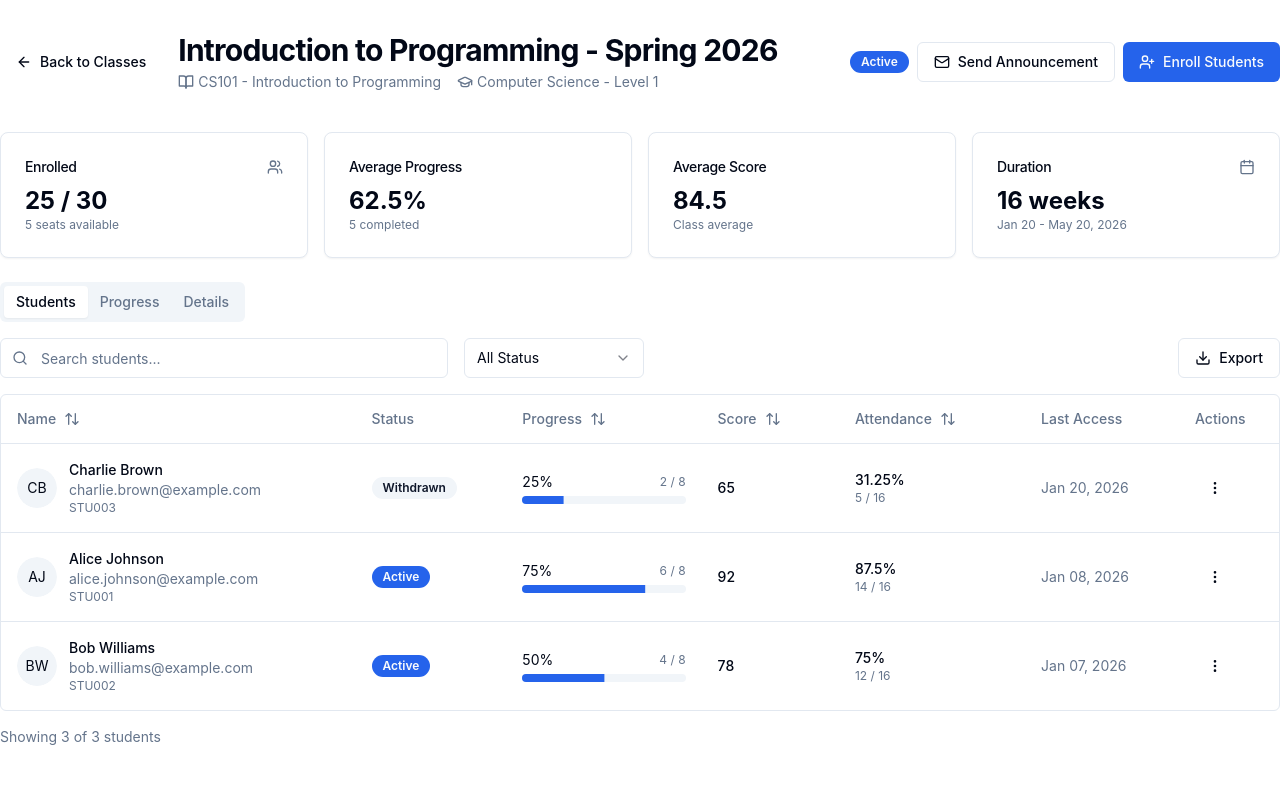
ClassDetailsPage › opens enroll dialog when enroll button clicked
The width and height of the screenshot is (1280, 800).
Click the button "Enroll Students" at (1202, 62), box [1123,42,1279,82]
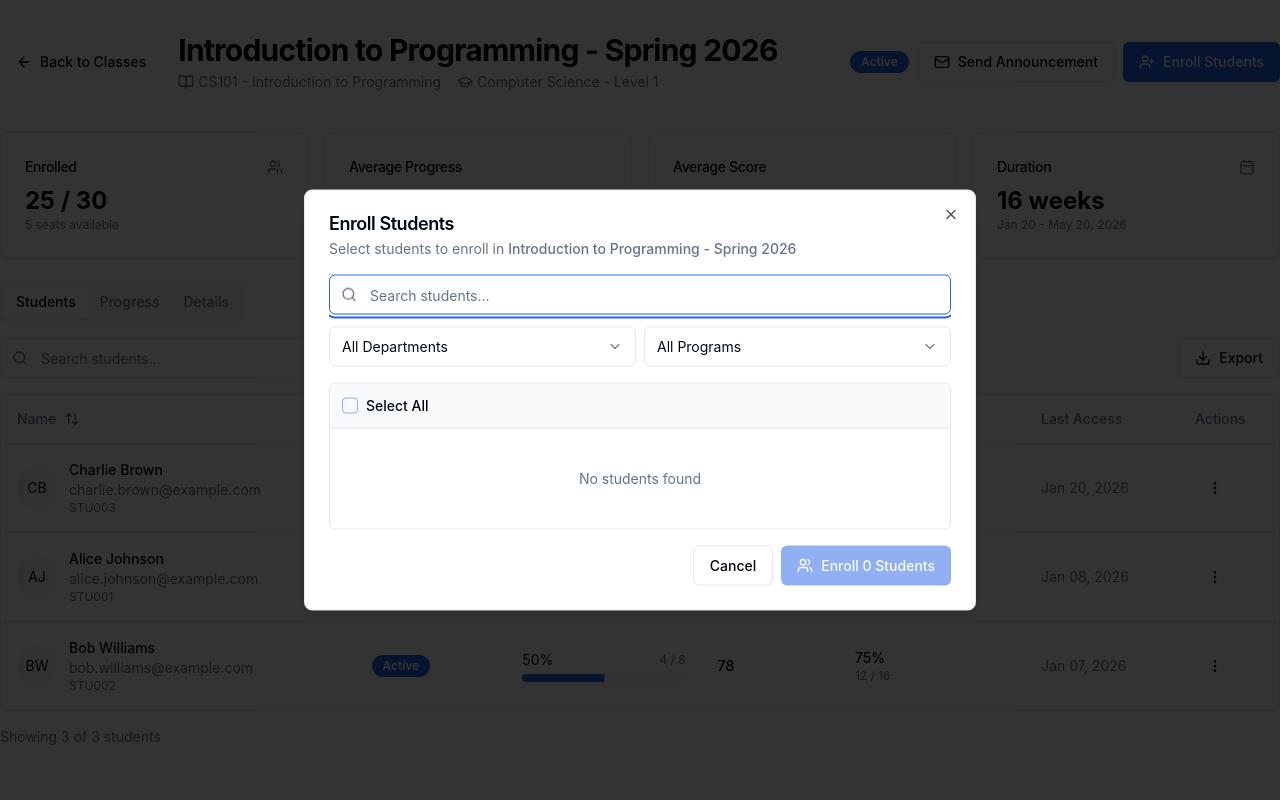
Expected: the text "Select students" is shown, [329,240,508,256]
